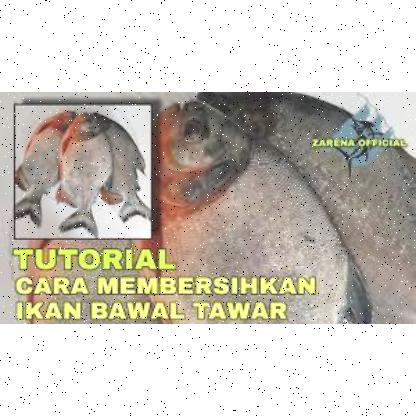ikan-pacu: (55, 112, 111, 232)
